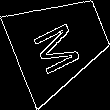M_NE: (31, 12, 89, 74)
